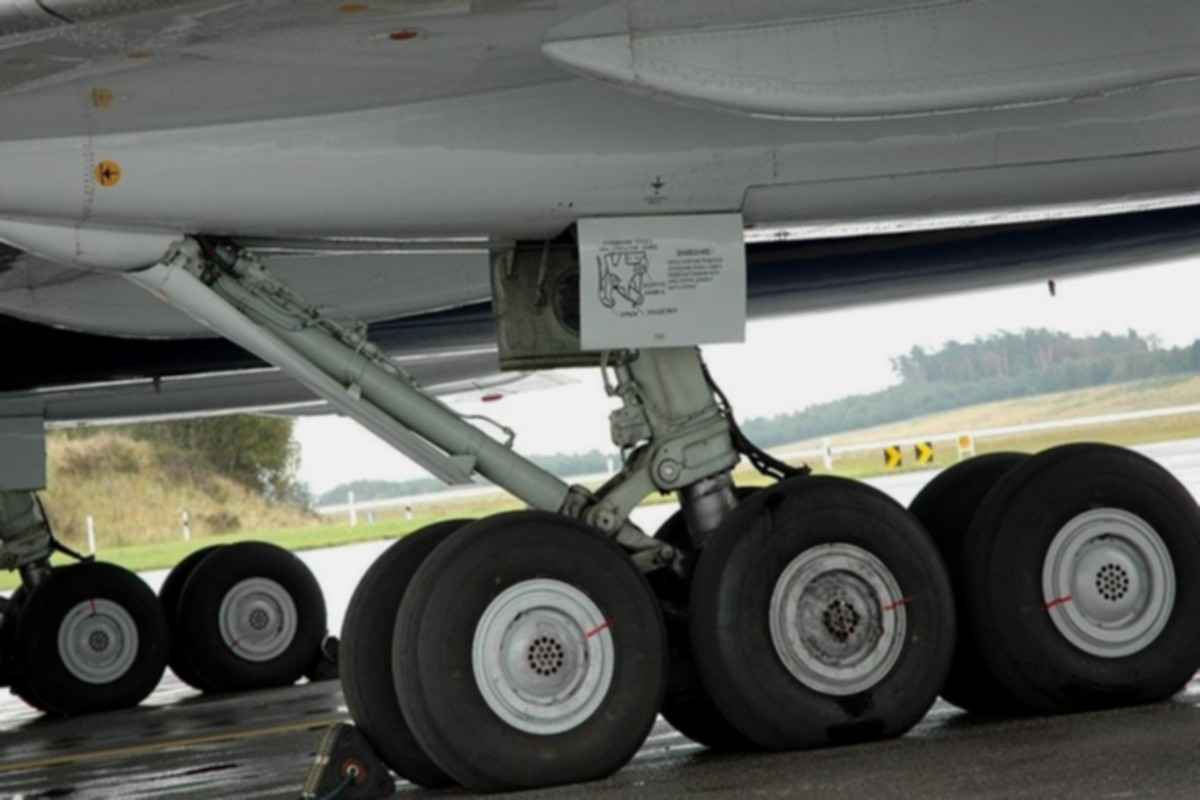chock: (283, 710, 403, 800), (301, 629, 350, 686)
wheel: (366, 490, 688, 800), (670, 457, 975, 771), (955, 423, 1200, 730), (3, 556, 176, 728), (165, 526, 335, 700)
